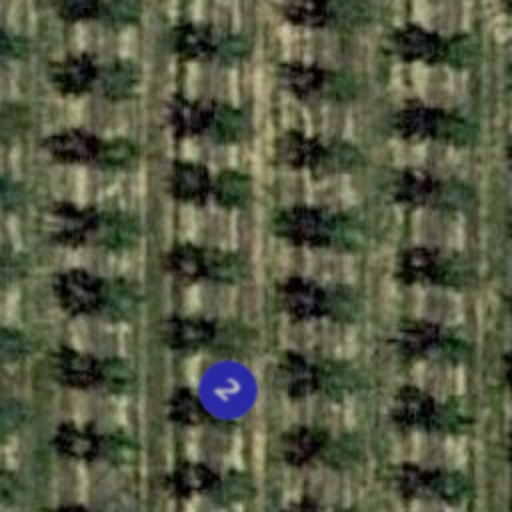circle: (186, 348, 270, 432)
